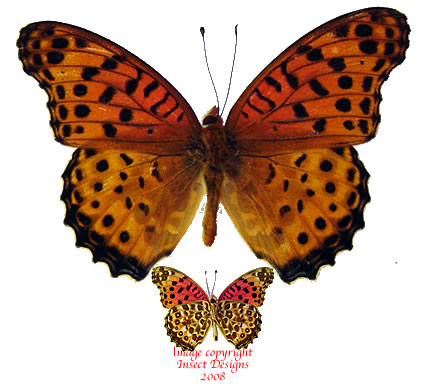Argyreus hyperbius: (14, 3, 414, 288), (147, 260, 274, 351)
butterfly: (12, 1, 412, 286), (149, 262, 276, 353)
